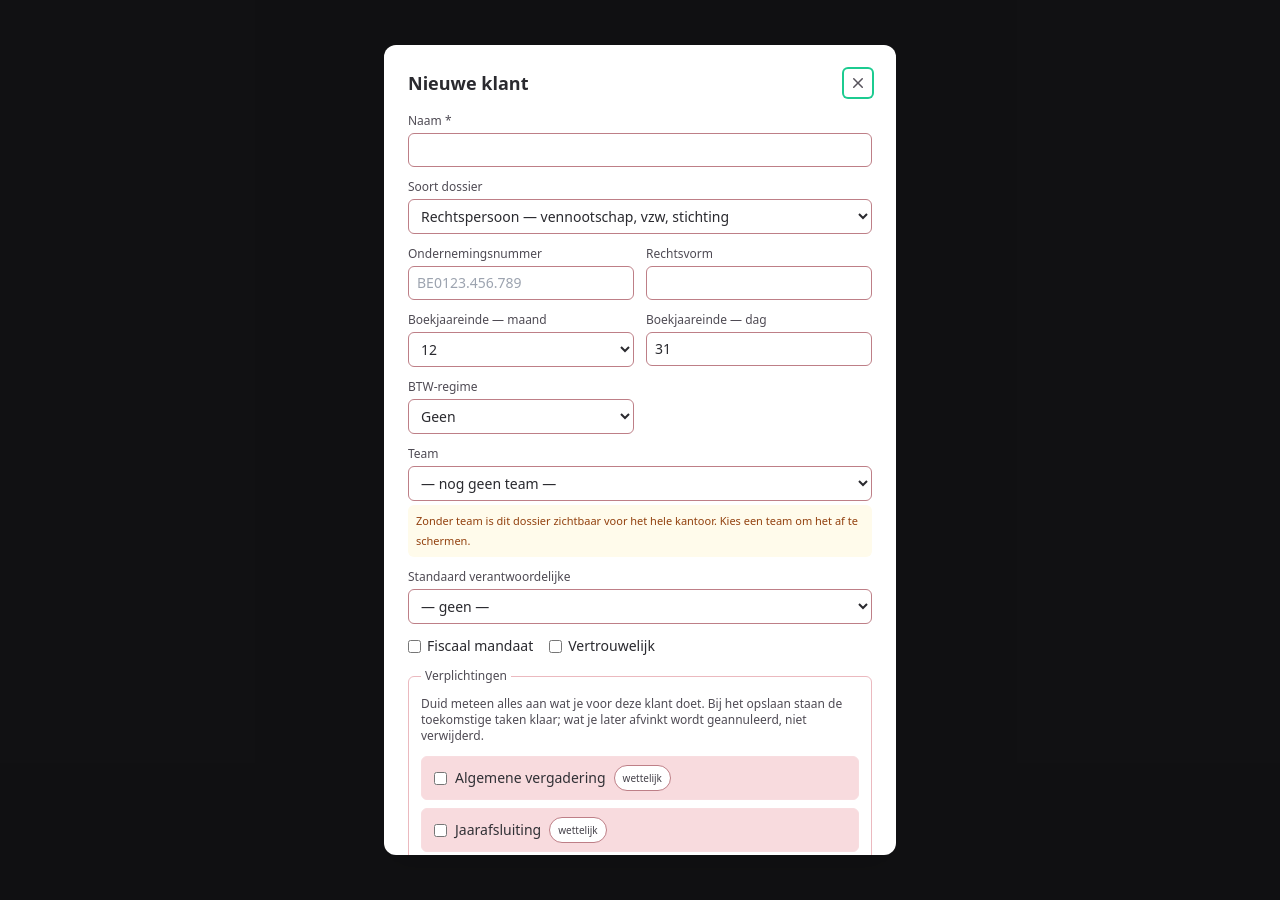
Test: ClientFormModal — submit error handling › shows the returned error and does not close the modal when onSubmit rejects
Type "Acme BV" into the field labelled "Naam *". click: (640, 150)
box: [408,133,872,167]
(page scrolled)
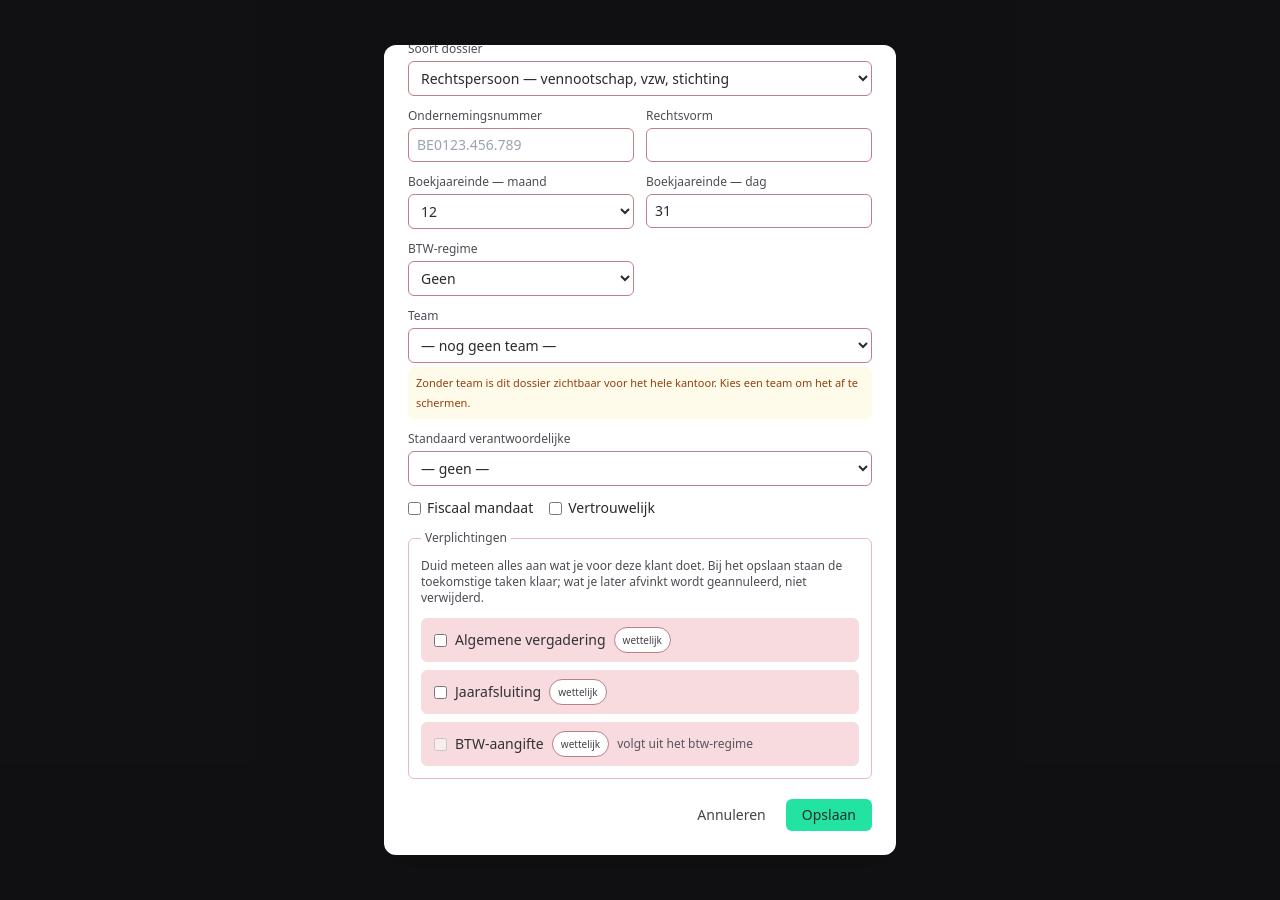
Click the button "Opslaan". click: (829, 815)
box: [786,799,872,831]
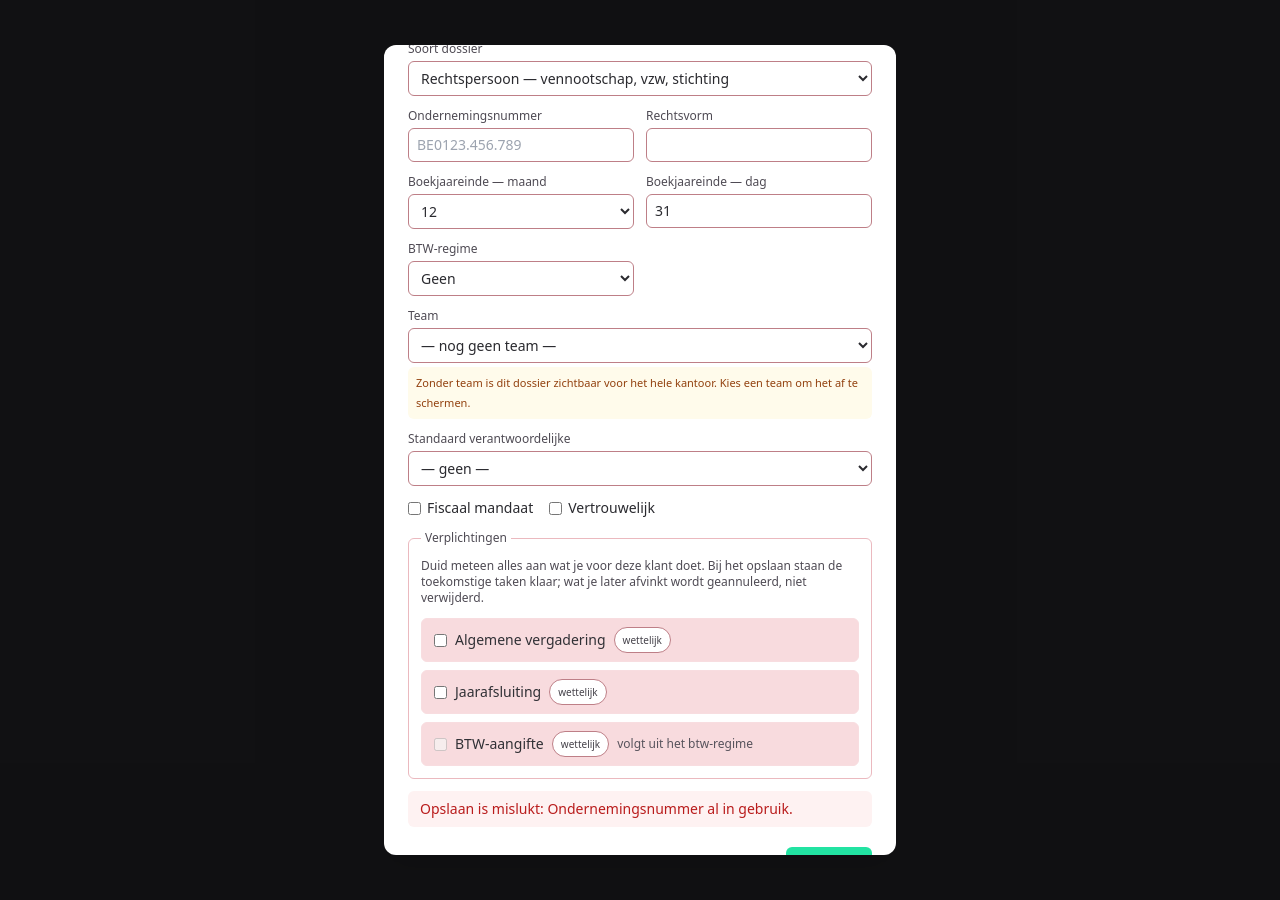
Expected: the message shows "Ondernemingsnummer al in gebruik.", [420,799,793,818]
